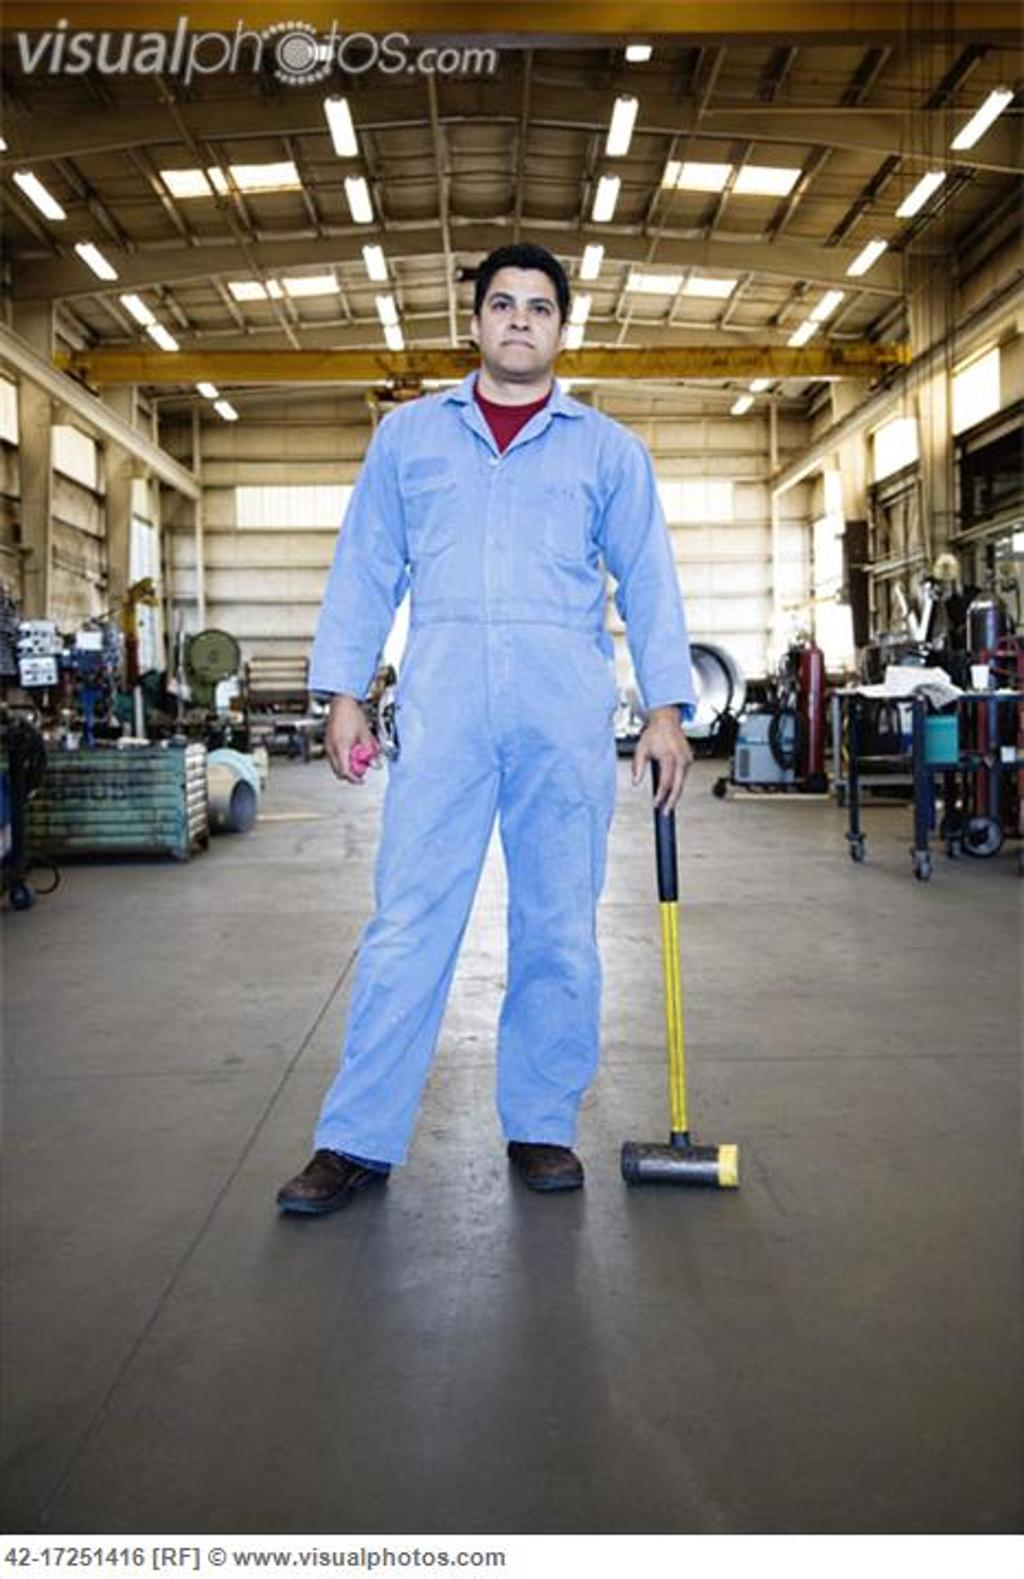face: (481, 268, 546, 370)
